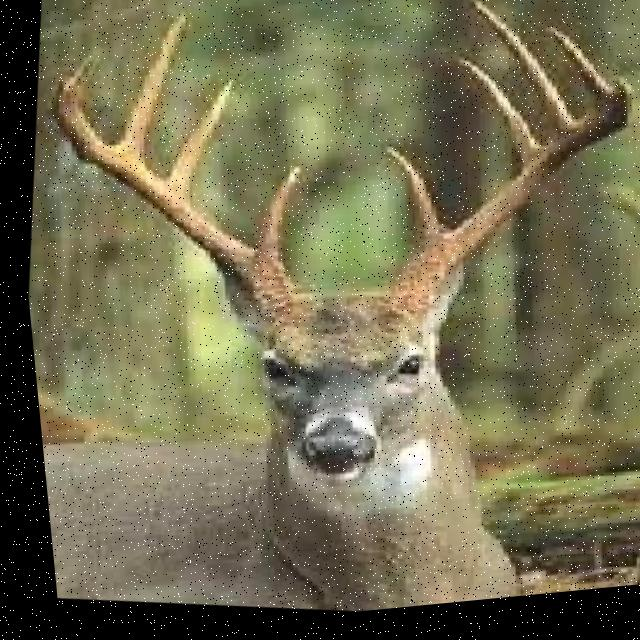L-F: (49, 59, 307, 333)
L-G1: (254, 168, 299, 271)
L-G2: (162, 81, 233, 198)
L-G3: (114, 17, 188, 163)
R-F: (371, 90, 631, 337)
R-G1: (380, 152, 443, 261)
R-G2: (454, 64, 538, 173)
R-G3: (466, 6, 572, 146)
R-G4: (542, 35, 608, 116)
